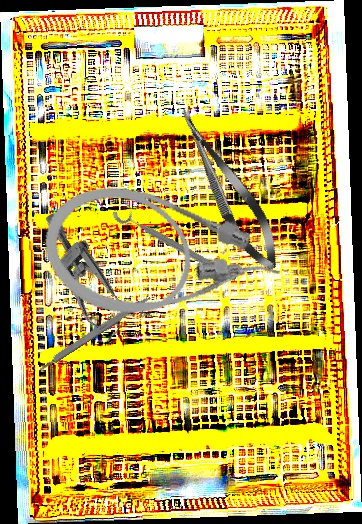Cannula: (28, 168, 292, 352)
Fixation Ring: (110, 198, 243, 286)
Micro Scissor: (167, 99, 290, 278)
Scalpel Handle: (37, 293, 152, 372)
Speculum: (11, 210, 161, 352)
